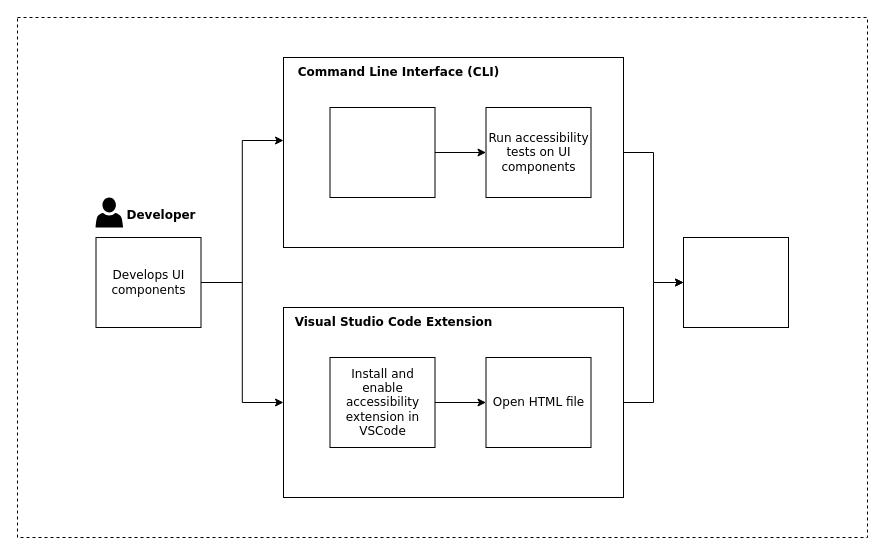
The diagram is 885 pixels wide and 555 high, and some of its shapes have lost their labels. Each missing label, with the centre of its shape:
"Access CLI via NPX or NPM" goes at (382,152).
"Review and fix feedback from Accessify" goes at (735,282).
